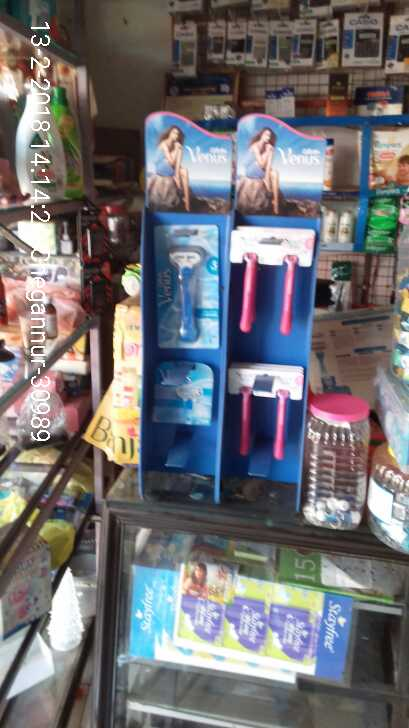venus: (147, 225, 221, 352), (140, 352, 216, 437)
